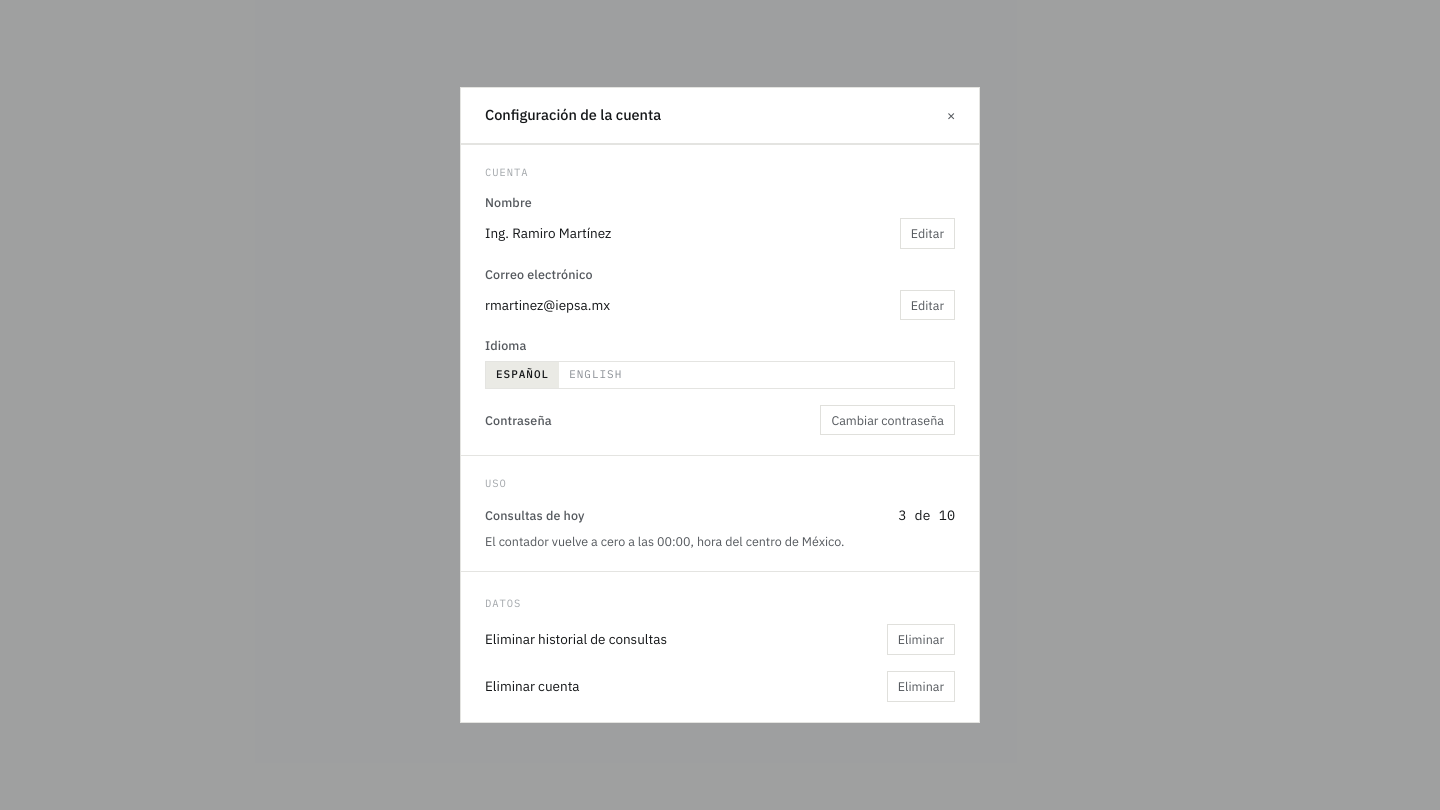
it: language selector in account settings › switches the modal itself immediately, without a reload
Expected: the dialog "Configuración de la cuenta" is shown, [460,87,980,723]
Step 1. Click the button "English" → click(596, 375), box [559,362,632,388]
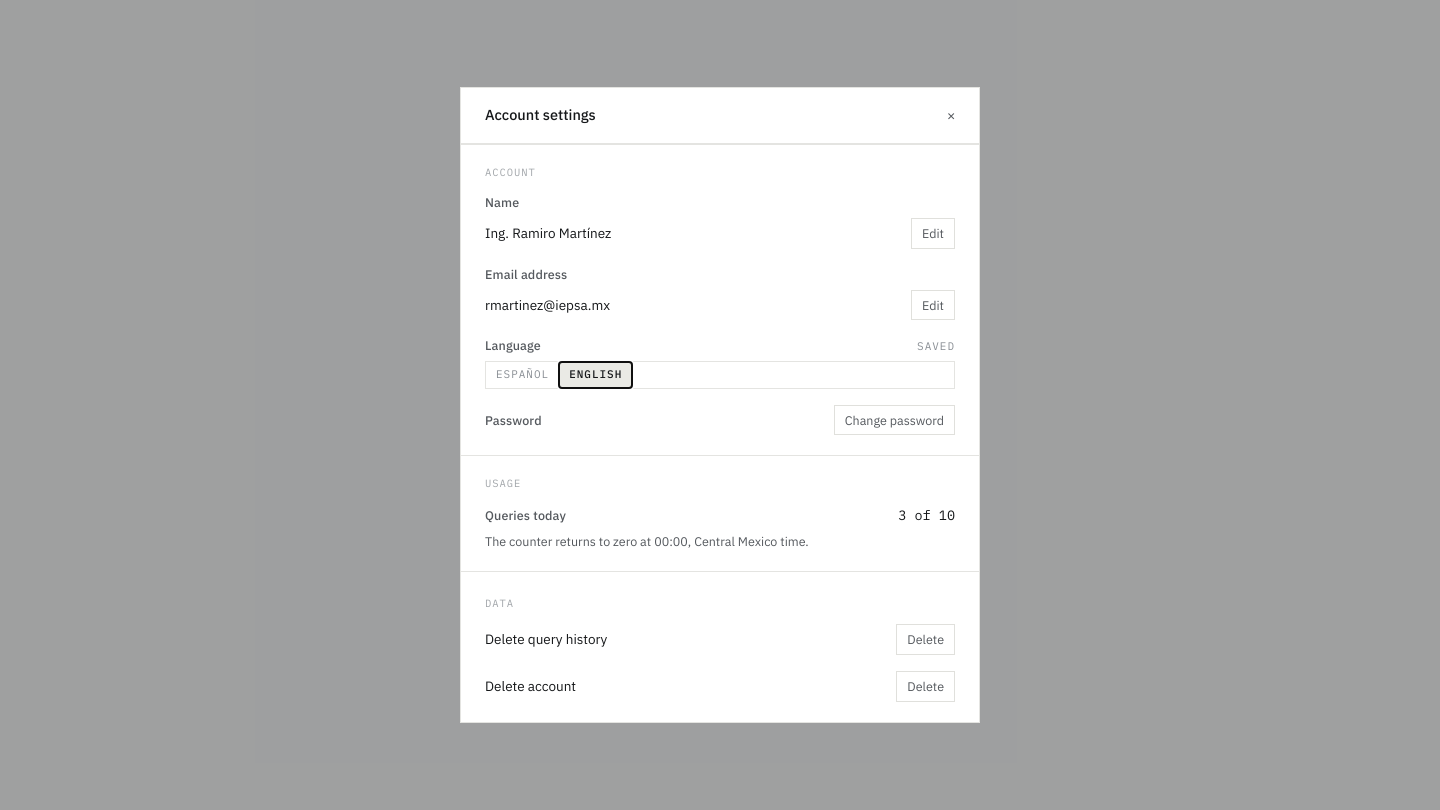
Result: the dialog "Account settings" is shown at [460,87,980,723]
Result: the text "Delete account" is shown at [485,676,576,697]
